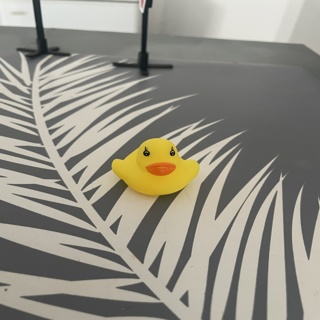duck_regular: (112, 137, 199, 196)
